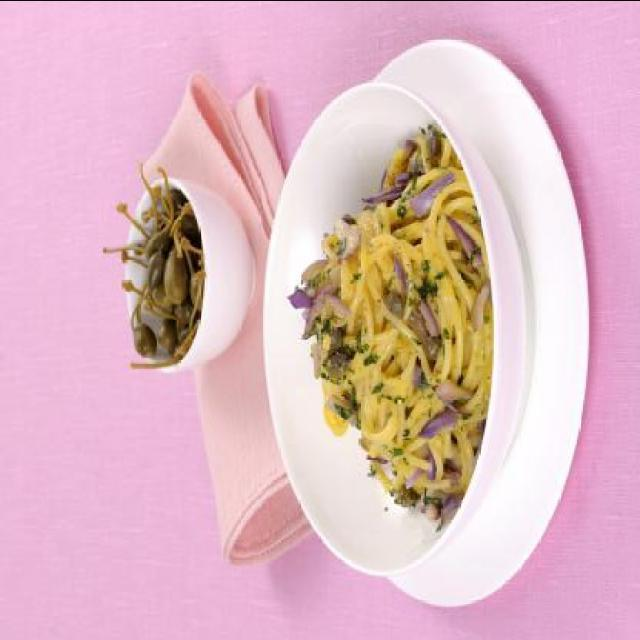Pasta with carbonara sauce: (255, 19, 577, 616)
